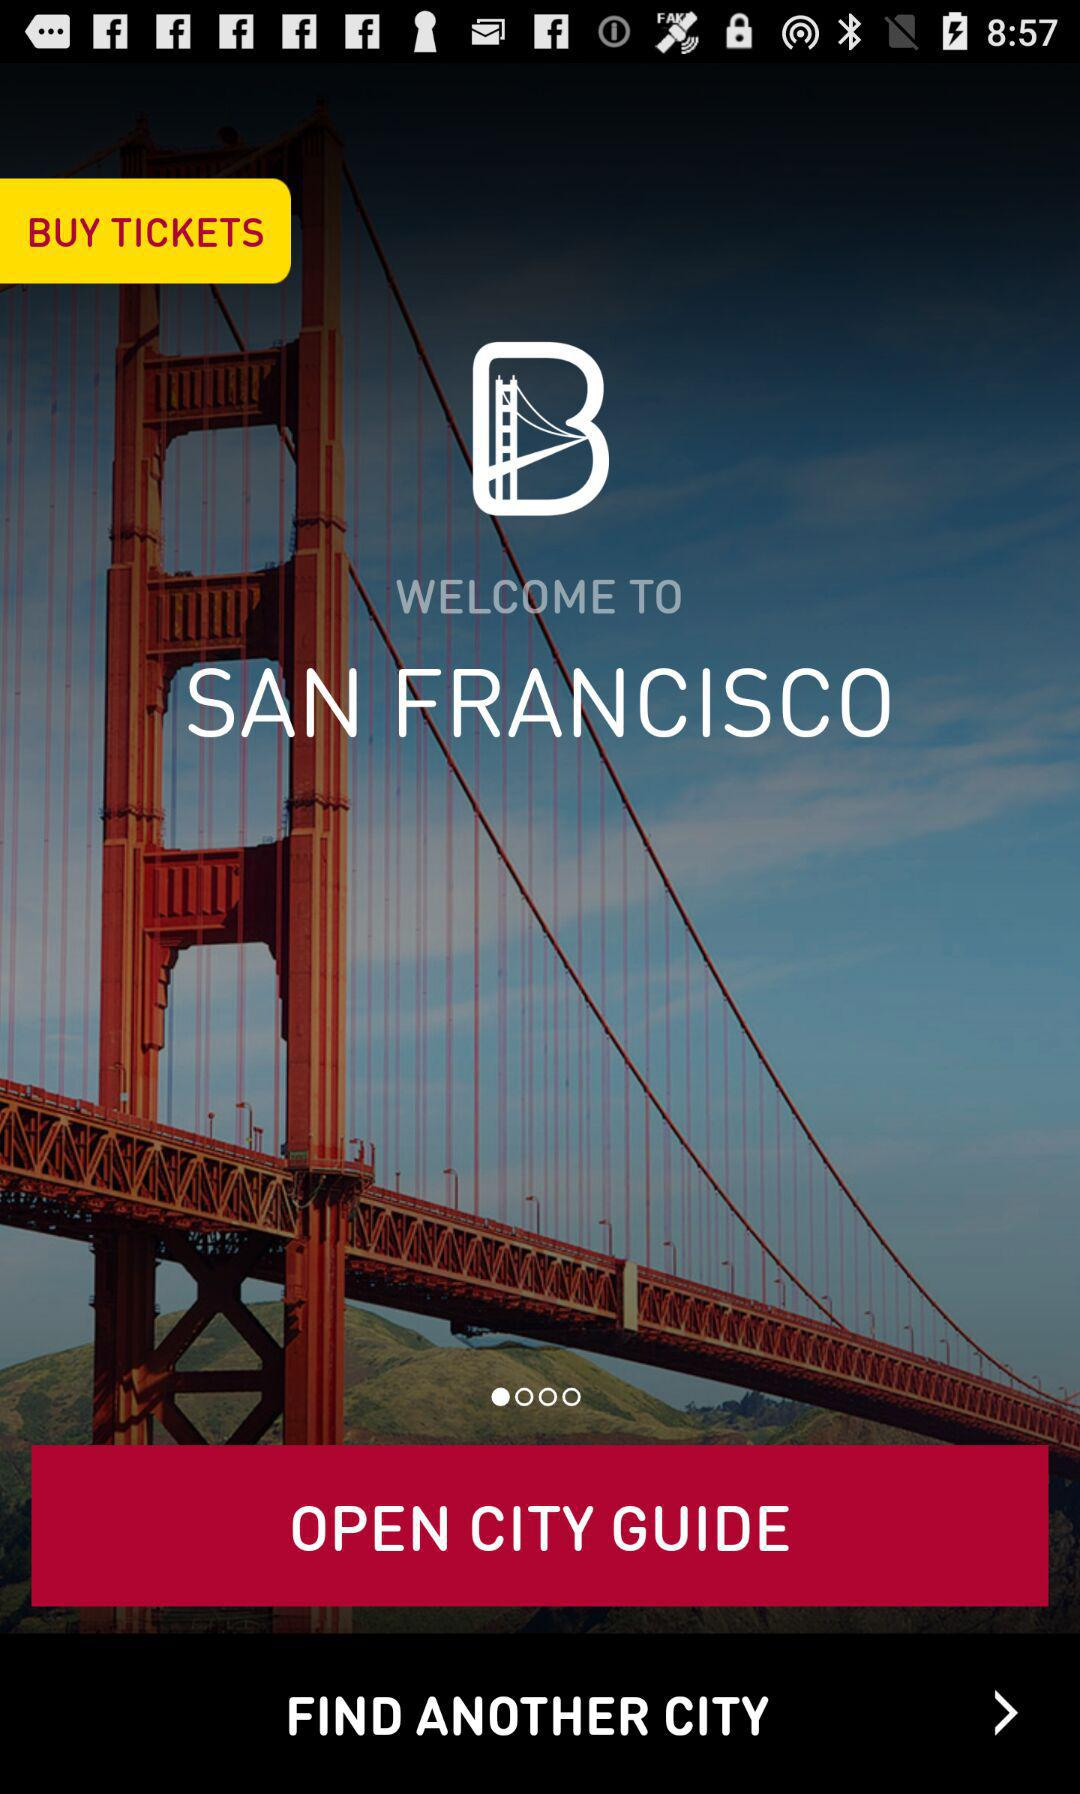BackgroundImage: (1, 58, 1080, 1633)
Icon: (994, 1689, 1019, 1736)
Image: (471, 341, 611, 518)
PageIndicator: (489, 1387, 583, 1410)
Text: (187, 668, 892, 741), (288, 1695, 770, 1739), (395, 578, 683, 616)
TextButton: (31, 1444, 1049, 1608), (1, 178, 292, 286)
UpperTaskBar: (1, 1, 1080, 59)
